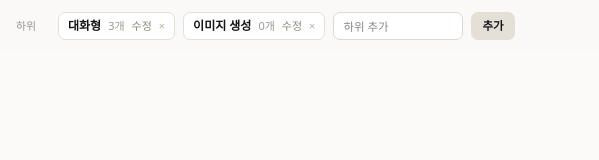
Test: SubCategoryRow — 이름 수정 › 수정을 누르면 그 칩 자리에 입력과 저장이 들어선다 (프로토타입 343–344행)
The width and height of the screenshot is (599, 160).
Click the button with aria-label "대화형 이름 수정".
click(142, 26)  # box [132, 18, 152, 34]
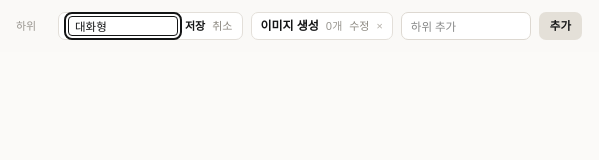
Check: the field named "하위 카테고리 이름" holds "대화형", box [68, 16, 178, 36]
